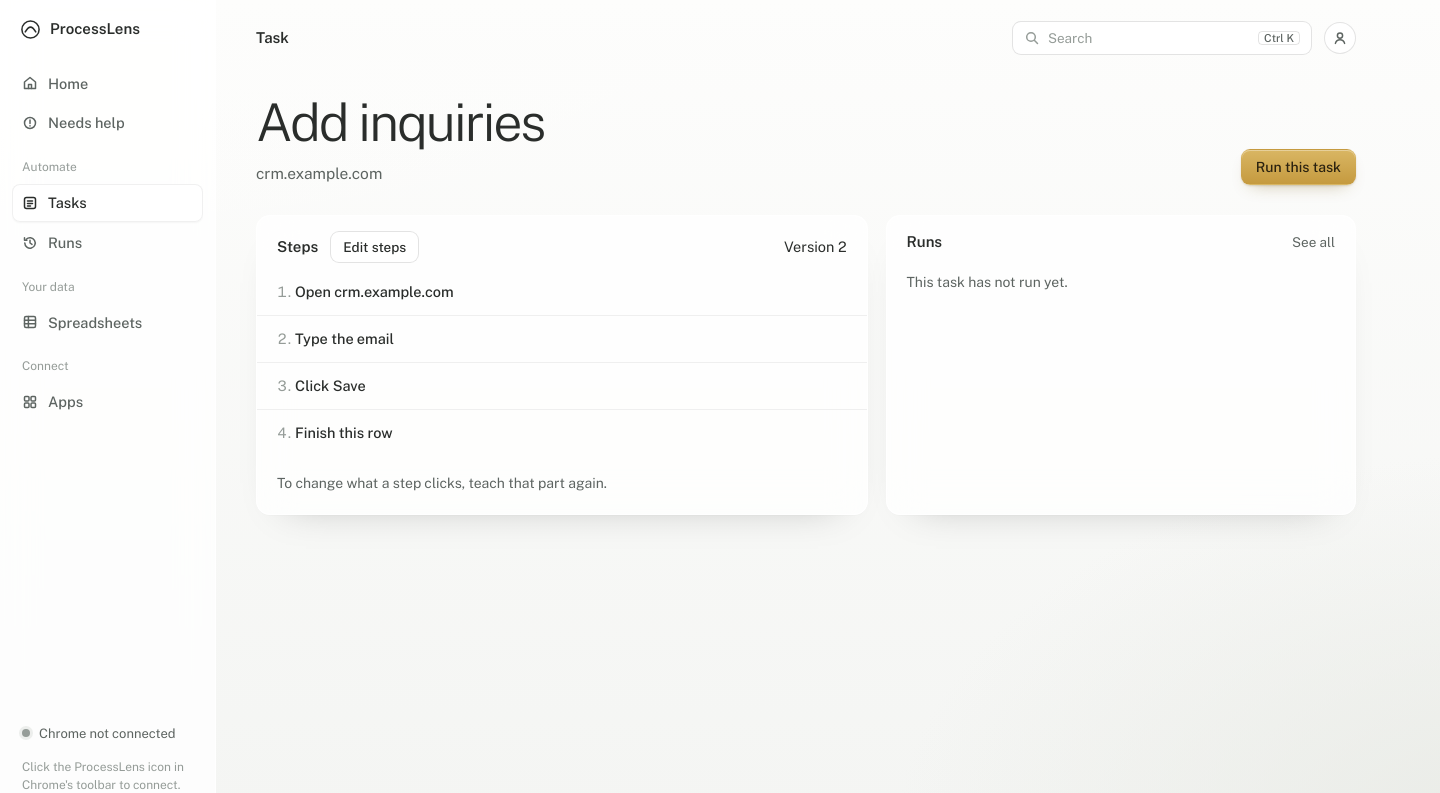
Test case: the workflow editor › cancels back to the steps as they were
Click the button "Edit steps" at coordinates (375, 247), box [330,231,419,263]
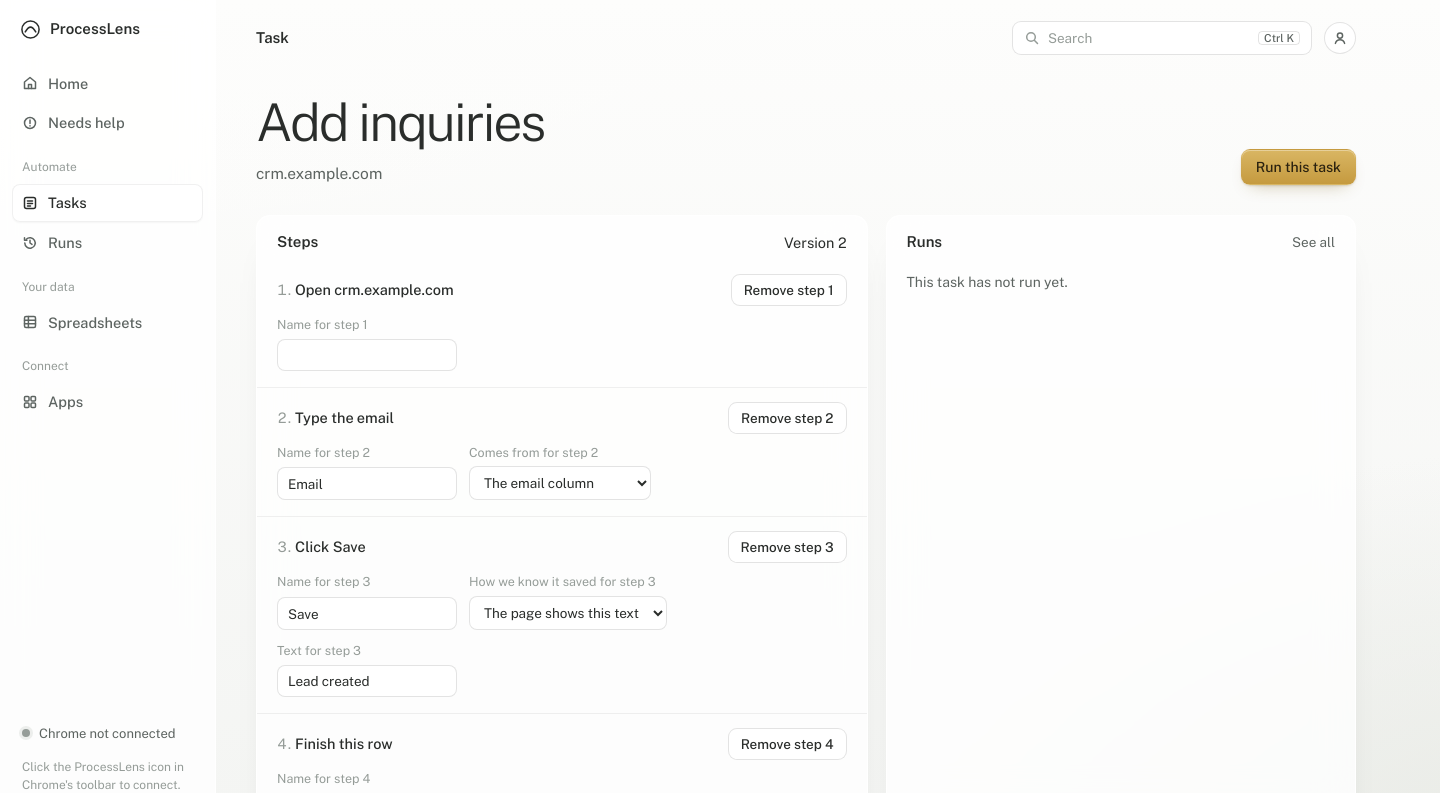
Replace the text in the field labelled "Name for step 2" with "Work email" at coordinates (367, 484), box [277,467,457,500]
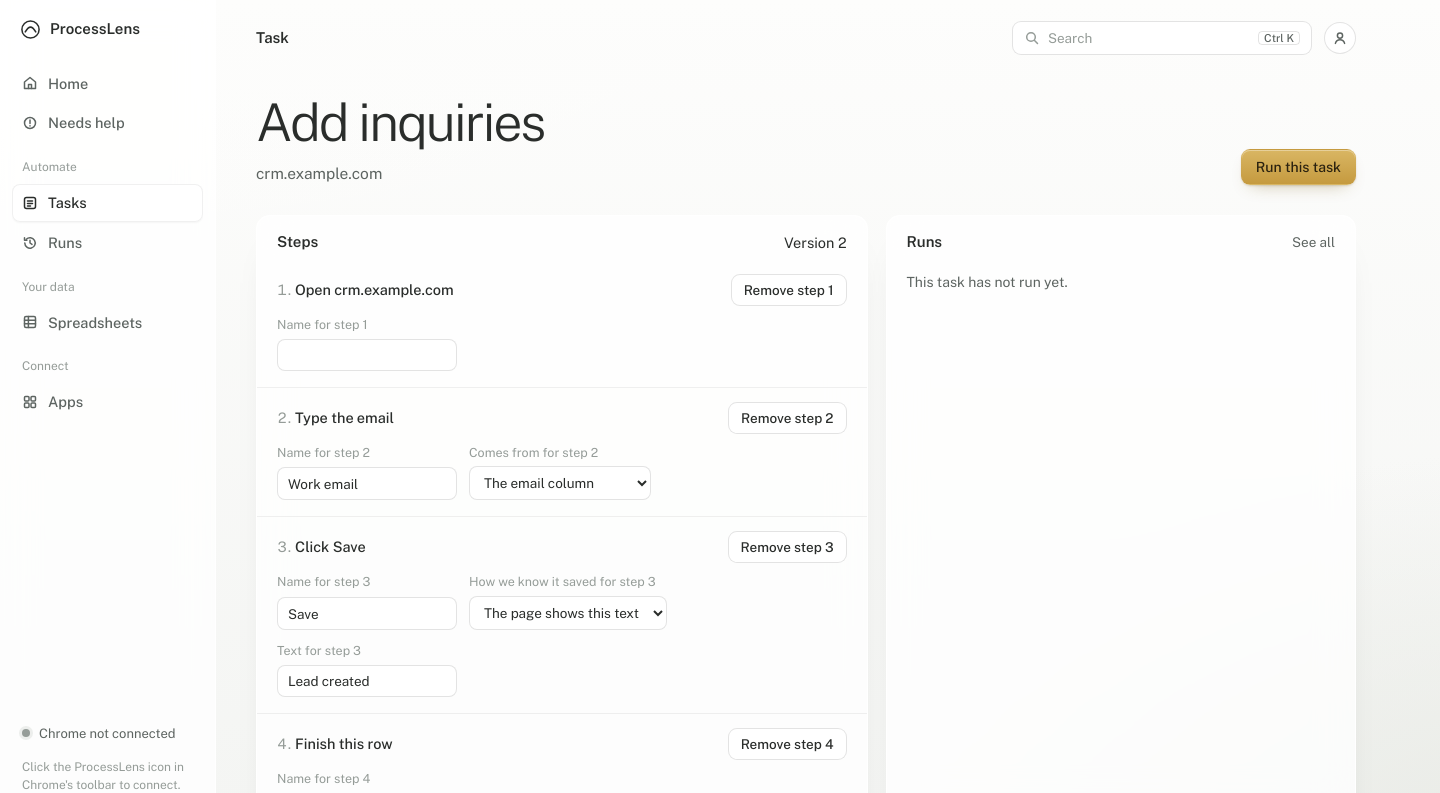
Leave the field labelled "Name for step 2", box [277,467,457,500]
(page scrolled)
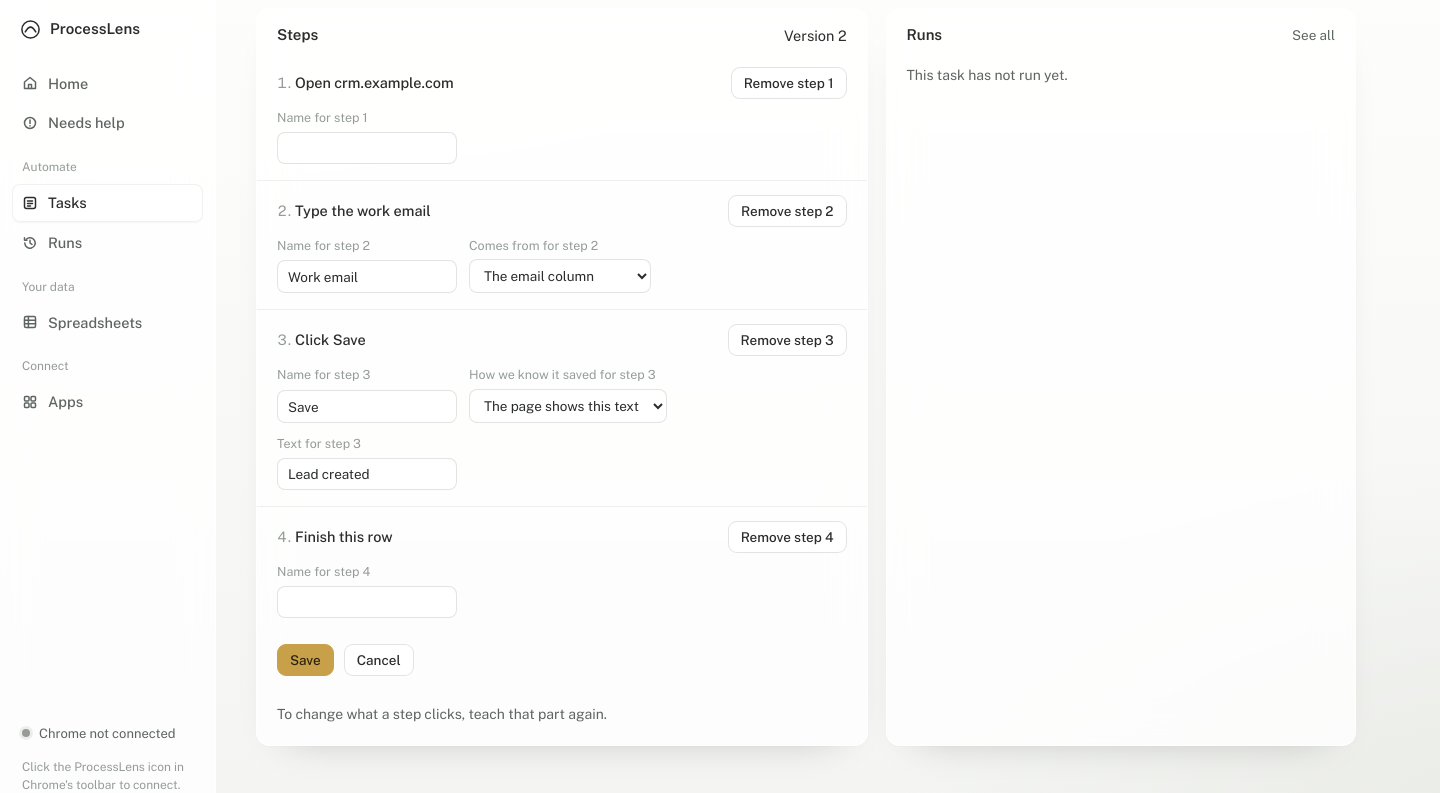
Check: the text "Type the work email" is shown, box [277,200,431,221]
Click the button "Cancel" at coordinates (379, 660), box [344,644,414,676]
(page scrolled)
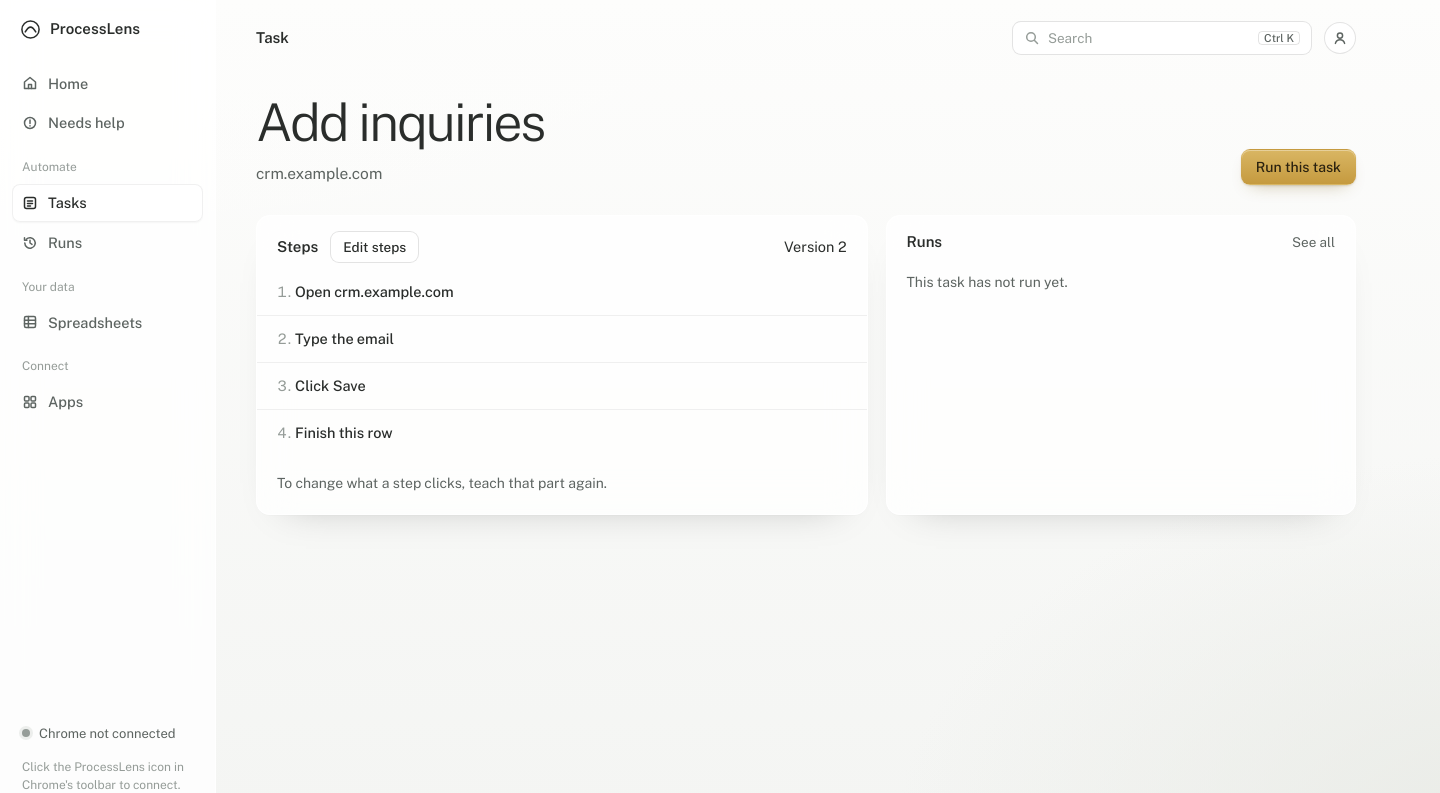
Check: the text "Type the email" is shown, box [277,330,394,347]
Check: the text "Type the work email" is gone
